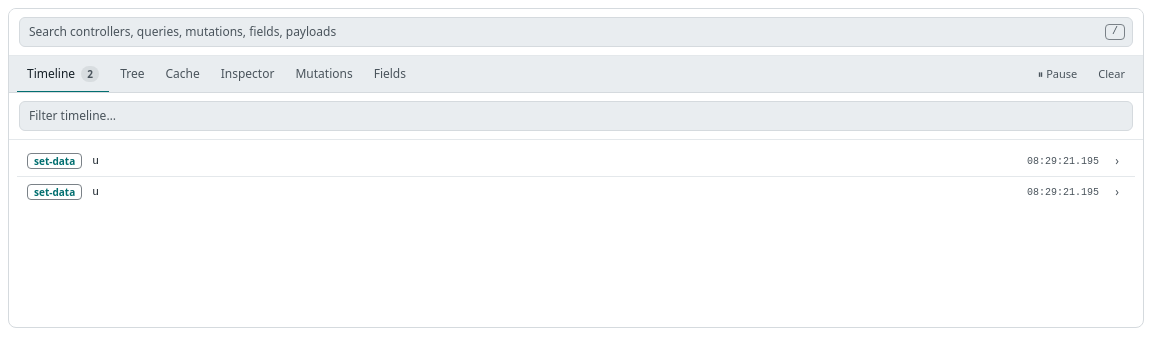
Test: Timeline cache:set-data detail › a write with identical content reads "no change"
What coordinates should you click on to do the following:
click the 1st element showing "set-data u 08:29:21.195 ›"
I would click on:
 (55, 161)
Its box is x1=27 y1=152 x2=1119 y2=169.
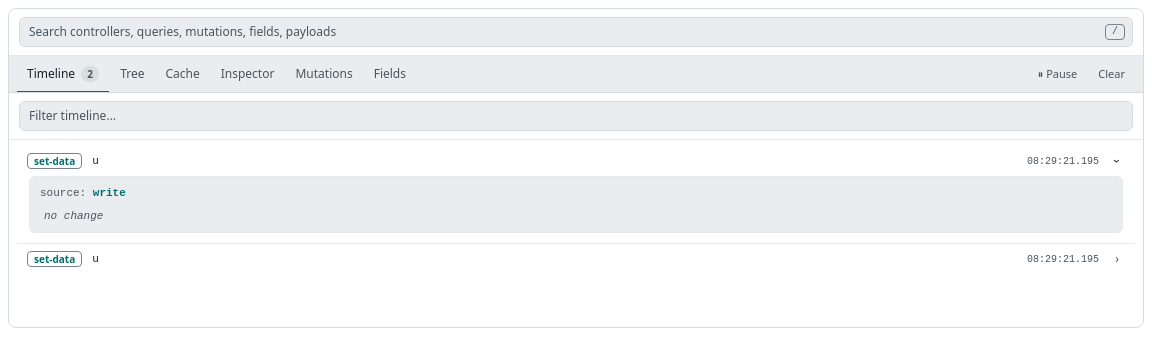
Expected: the element with class "olas-devtools-payload-json" shows "no change", x1=44 y1=210 x2=103 y2=222
